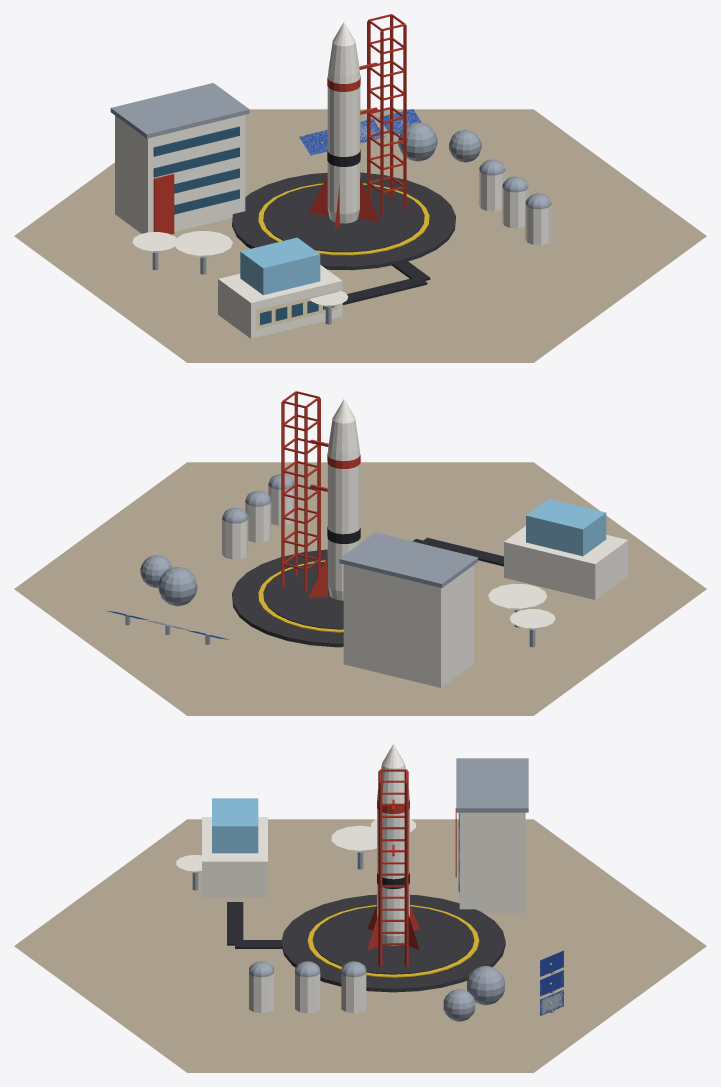
File: district_spaceport_3.fbx
3 renders of one model, top to bottom at view 1: azimuth 30°, elevation 25°; view 2: azimuth 150°, elevation 25°; view 3: azimuth 270°, elevation 25°, orthographic.
Parts seen in each view (by area): view 1: district_spaceport_3; view 2: district_spaceport_3; view 3: district_spaceport_3.
Boxes of the visible parts, left/top/right/bottom form: district_spaceport_3: left=14, top=14, right=706, bottom=362; district_spaceport_3: left=14, top=391, right=706, bottom=715; district_spaceport_3: left=14, top=744, right=706, bottom=1072.
Bounding box in the file's own units: 182 × 67.6 × 210.
